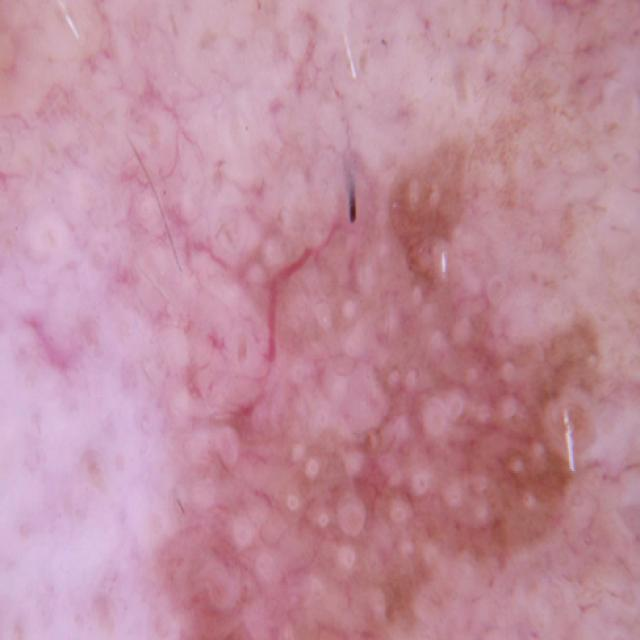Keratosis: (42, 182, 404, 640), (429, 269, 619, 586), (244, 438, 391, 640)
